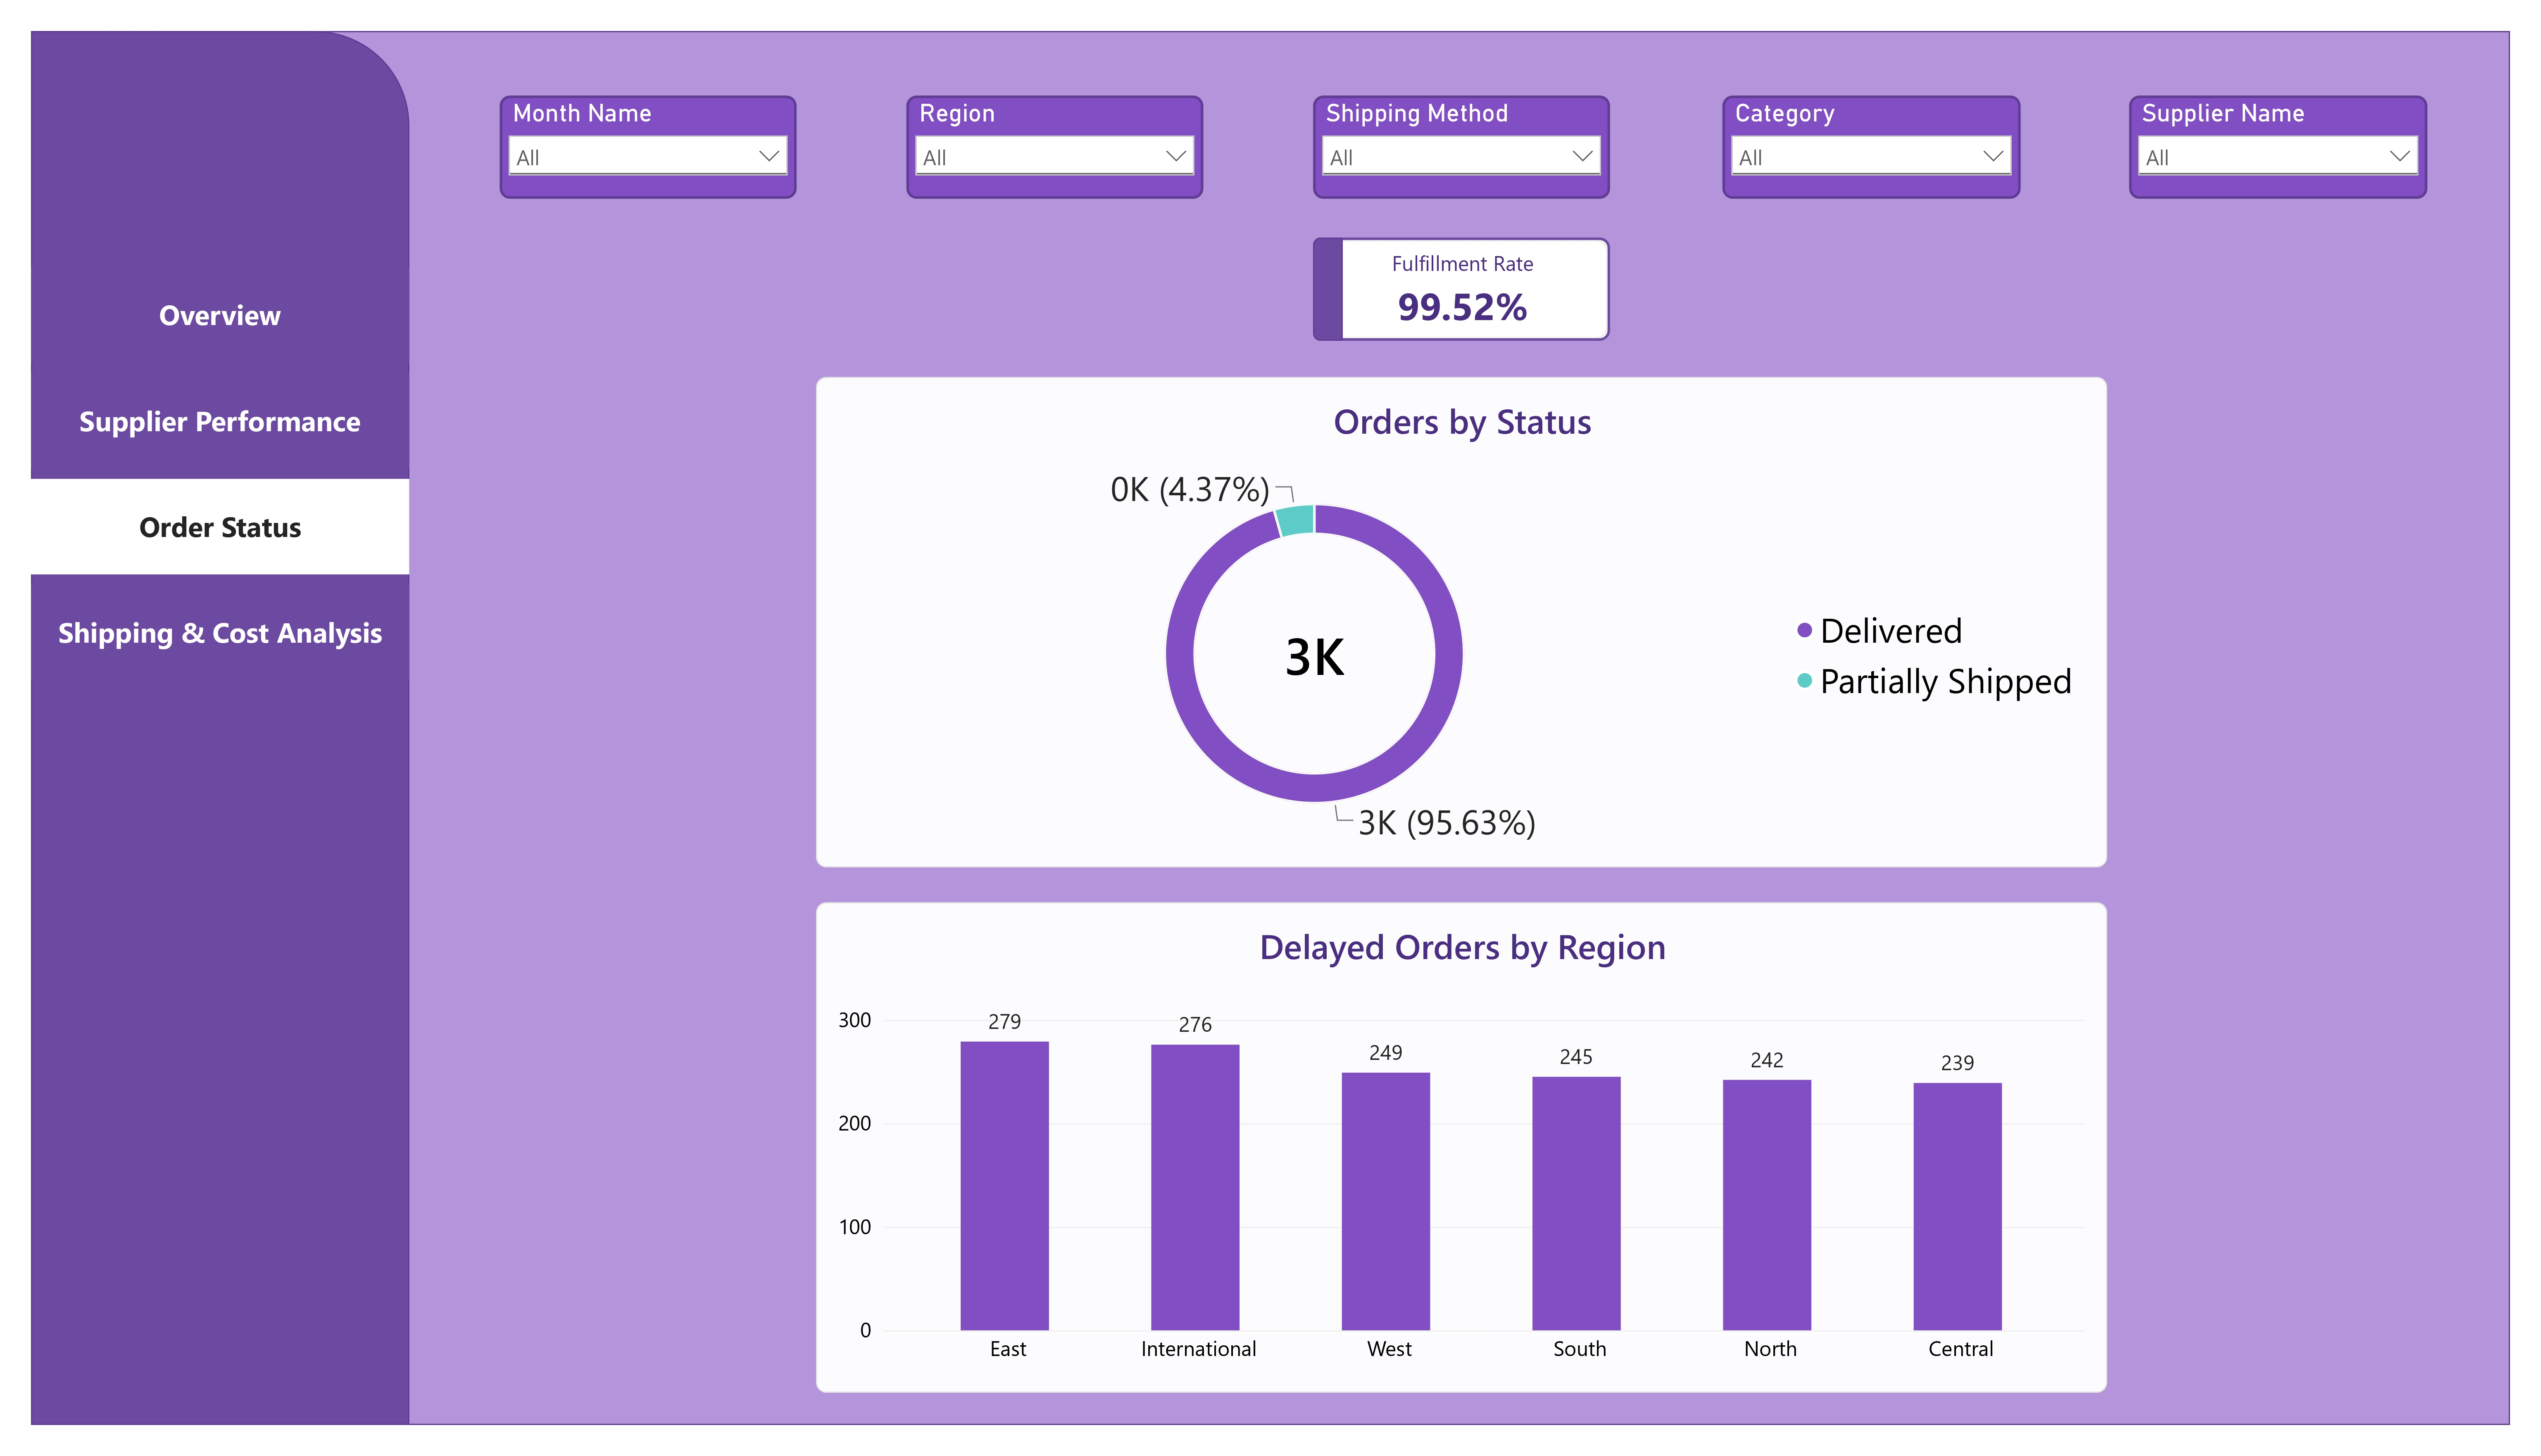

What the dashboard file says about the page in this screenshot:
{"tool":"powerbi","page":{"name":"Order Status","canvas":[1920,1080],"ordinal":2},"visuals":[{"type":"shape","box":[0,0,1920,1080],"z":0},{"type":"shape","box":[0,0,292.5,1080],"z":1000},{"type":"donutChart","title":"Orders by Status","fields":{"Category":["Orders.Order Status"],"Y":["Orders.Total Orders"]},"box":[607.5,267.5,1000,380],"z":2000},{"type":"cardVisual","fields":{"Data":["Orders.Fulfillment Rate"]},"box":[992.5,160,230,80],"z":3000,"group":"g1"},{"type":"clusteredColumnChart","title":"Delayed Orders by Region","fields":{"Category":["Orders.Destination Region"],"Y":["Orders.Delayed Orders"]},"box":[607.5,675,1000,380],"z":4000},{"type":"pageNavigator","box":[0,182.5,292.5,320],"z":5000},{"type":"slicer","fields":{"Values":["Orders.Order Date.Variation.Date Hierarchy.Month"]},"box":[362.5,50.4,230,80],"z":6000},{"type":"slicer","fields":{"Values":["Orders.Destination Region"]},"box":[677.5,50.4,230,80],"z":7000},{"type":"slicer","fields":{"Values":["Orders.Shipping Method"]},"box":[992.5,50.4,230,80],"z":8000},{"type":"slicer","fields":{"Values":["Products.Category"]},"box":[1309.5,50,231.1,79.5],"z":9000},{"type":"slicer","fields":{"Values":["Suppliers.Supplier Name"]},"box":[1625.1,50,231.1,79.5],"z":10000},{"type":"shape","box":[992.5,160,22.9,80],"z":11000,"group":"g1"},{"type":"group","id":"g1","title":"Group 1","box":[992.5,160,230,80],"z":11001}]}

Visuals, with their boxes on the page's 1920x1080 design canvas (x1, y1, x2, y2). These are canvas units, not pixel positions in the 2541x1456 screenshot, which may show the page scaled, cropped or inside an application window:
shape: pyautogui.locateOnScreen(0, 0, 1920, 1080)
shape: pyautogui.locateOnScreen(0, 0, 292, 1080)
"Orders by Status" donutChart: pyautogui.locateOnScreen(608, 268, 1608, 648)
cardVisual - Orders.Fulfillment Rate: pyautogui.locateOnScreen(992, 160, 1222, 240)
"Delayed Orders by Region" clusteredColumnChart: pyautogui.locateOnScreen(608, 675, 1608, 1055)
pageNavigator: pyautogui.locateOnScreen(0, 182, 292, 502)
slicer - Orders.Order Date.Variation.Date Hierarchy.Month: pyautogui.locateOnScreen(362, 50, 592, 130)
slicer - Orders.Destination Region: pyautogui.locateOnScreen(678, 50, 908, 130)
slicer - Orders.Shipping Method: pyautogui.locateOnScreen(992, 50, 1222, 130)
slicer - Products.Category: pyautogui.locateOnScreen(1310, 50, 1541, 130)
slicer - Suppliers.Supplier Name: pyautogui.locateOnScreen(1625, 50, 1856, 130)
shape: pyautogui.locateOnScreen(992, 160, 1015, 240)
"Group 1" group: pyautogui.locateOnScreen(992, 160, 1222, 240)
